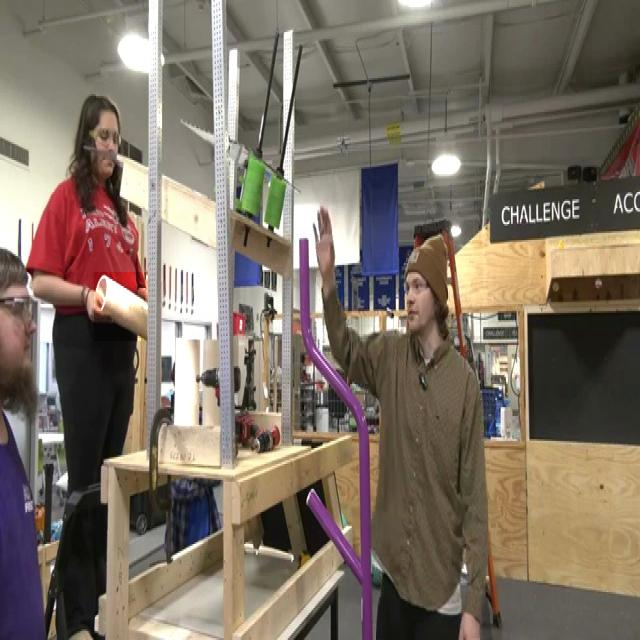Coral: (94, 272, 148, 341), (174, 336, 200, 426)
